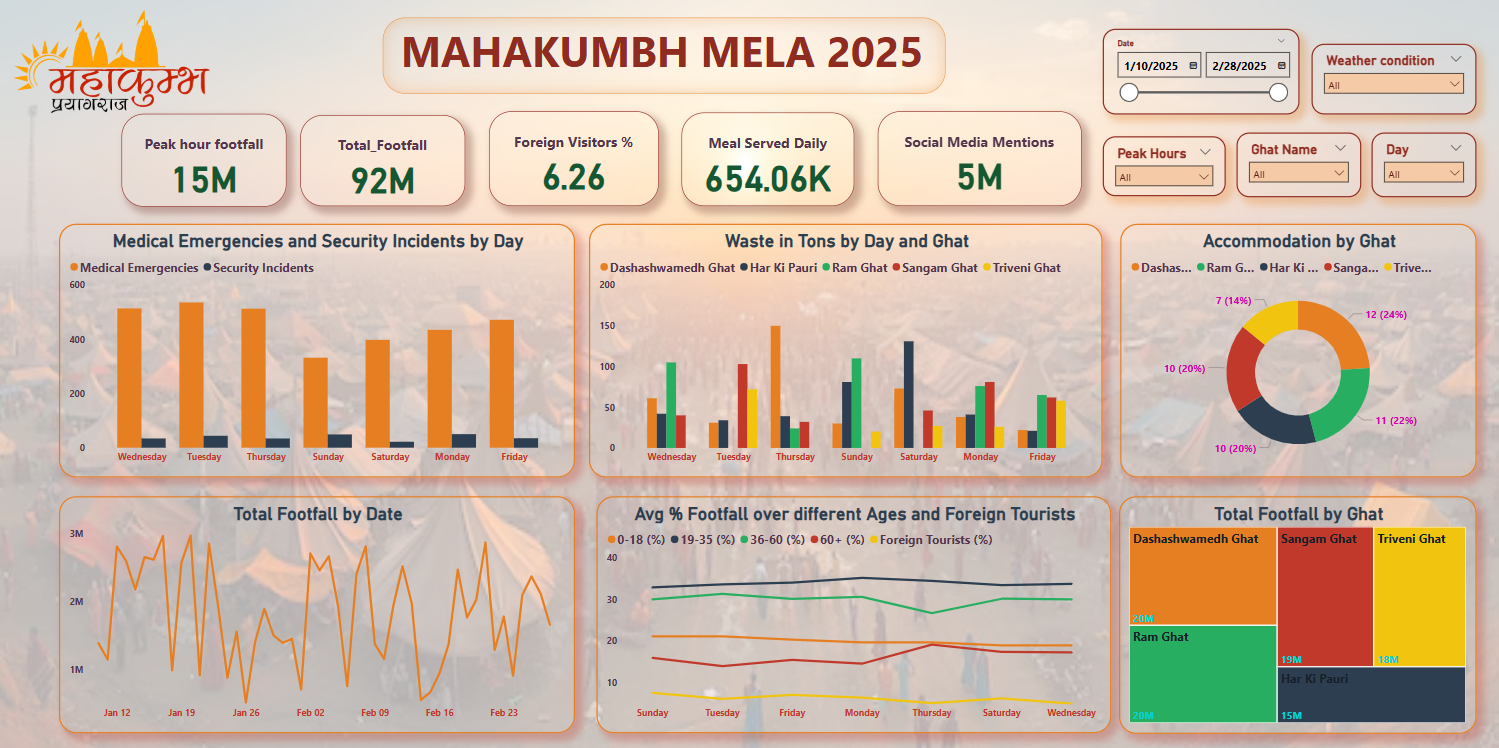

Layout of this report page (visuals, bound fields, positions):
{"tool":"powerbi","page":{"name":"Dashboard","canvas":[2000,1000],"ordinal":0},"visuals":[{"type":"group","id":"g1","title":"Group 1","box":[512,24,750,101.9],"z":0,"group":"g2"},{"type":"textbox","box":[512,24,750,101.9],"z":0,"group":"g1"},{"type":"lineChart","title":"Total Footfall by Date","fields":{"Y":["'Measures'.Total_Footfall"],"Category":["Mahakumbh_Footfall_Analytics.Date"]},"box":[80,662,688,316],"z":0},{"type":"lineChart","title":"Avg % Footfall over different Ages and Foreign Tourists","fields":{"Y":["Avg(Mahakumbh_Footfall_Analytics.0-18 (%))","Avg(Mahakumbh_Footfall_Analytics.19-35 (%))","Avg(Mahakumbh_Footfall_Analytics.36-60 (%))","Avg(Mahakumbh_Footfall_Analytics.60+ (%))","Avg(Mahakumbh_Footfall_Analytics.Foreign Tourists (%))"],"Category":["Mahakumbh_Footfall_Analytics.Day"]},"box":[796,662,686,316],"z":1000},{"type":"treemap","title":"Total Footfall by Ghat","fields":{"Group":["Mahakumbh_Footfall_Analytics.Ghat Name"],"Values":["'Measures'.Total_Footfall"]},"box":[1493.3,661.7,476.7,316.7],"z":2000},{"type":"donutChart","title":"Accommodation by Ghat","fields":{"Y":["CountNonNull(Mahakumbh_Footfall_Analytics.Accommodation (%))"],"Category":["Mahakumbh_Footfall_Analytics.Ghat Name"]},"box":[1495,298.3,475,338.3],"z":3000},{"type":"clusteredColumnChart","title":"Waste in Tons by Day and Ghat","fields":{"Y":["Sum(Mahakumbh_Footfall_Analytics.Waste (Tons))"],"Series":["Mahakumbh_Footfall_Analytics.Ghat Name"],"Category":["Mahakumbh_Footfall_Analytics.Day"]},"box":[786.7,298.3,685,338.3],"z":4000},{"type":"clusteredColumnChart","title":"Medical Emergencies and Security Incidents by Day","fields":{"Category":["Mahakumbh_Footfall_Analytics.Day"],"Y":["Sum(Mahakumbh_Footfall_Analytics.Medical Emergencies)","Sum(Mahakumbh_Footfall_Analytics.Security Incidents)"]},"box":[80,298,688,338],"z":5000},{"type":"group","id":"g2","title":"Group 2","box":[512,24,750,102],"z":6000},{"type":"slicer","fields":{"Values":["Mahakumbh_Footfall_Analytics.Date"]},"box":[1472,38,262,114],"z":9000},{"type":"slicer","fields":{"Values":["Mahakumbh_Footfall_Analytics.Ghat Name"]},"box":[1650,176,166,86],"z":10000},{"type":"slicer","fields":{"Values":["Mahakumbh_Footfall_Analytics.Day"]},"box":[1830,176,140,86],"z":11000},{"type":"slicer","fields":{"Values":["Mahakumbh_Footfall_Analytics.Peak Hours"]},"box":[1472,182,164,80],"z":12000},{"type":"slicer","fields":{"Values":["Mahakumbh_Footfall_Analytics.Weather condition"]},"box":[1750,58,220,94],"z":13000},{"type":"cardVisual","fields":{"Data":["'Measures'.Meal Served Daily"]},"box":[910,150,230,125],"z":14000},{"type":"cardVisual","fields":{"Data":["'Measures'.Total_Footfall"]},"box":[401.7,153.3,220,121.7],"z":15000},{"type":"cardVisual","fields":{"Data":["'Measures'.Foreign Visitors %"]},"box":[653.3,148.3,226.7,126.7],"z":16000},{"type":"cardVisual","fields":{"Data":["'Measures'.Social Media Mentions"]},"box":[1171.7,148.3,271.7,126.7],"z":18000},{"type":"cardVisual","fields":{"Data":["'Measures'.Peak hour footfall"]},"box":[164,152,220,124],"z":19000},{"type":"image","box":[0,2,300,180],"z":20000}]}

Visuals, with their boxes in screenshot pixels (x1, y1, x2, y2), scaled from the page's 2000x1000 canvas onto the 1499x748 screenshot:
"Group 1" group: locate(384, 18, 946, 94)
textbox: locate(384, 18, 946, 94)
"Total Footfall by Date" lineChart: locate(60, 495, 576, 732)
"Avg % Footfall over different Ages and Foreign Tourists" lineChart: locate(597, 495, 1111, 732)
"Total Footfall by Ghat" treemap: locate(1119, 495, 1477, 732)
"Accommodation by Ghat" donutChart: locate(1121, 223, 1477, 476)
"Waste in Tons by Day and Ghat" clusteredColumnChart: locate(590, 223, 1103, 476)
"Medical Emergencies and Security Incidents by Day" clusteredColumnChart: locate(60, 223, 576, 476)
"Group 2" group: locate(384, 18, 946, 94)
slicer - Mahakumbh_Footfall_Analytics.Date: locate(1103, 28, 1300, 114)
slicer - Mahakumbh_Footfall_Analytics.Ghat Name: locate(1237, 132, 1361, 196)
slicer - Mahakumbh_Footfall_Analytics.Day: locate(1372, 132, 1477, 196)
slicer - Mahakumbh_Footfall_Analytics.Peak Hours: locate(1103, 136, 1226, 196)
slicer - Mahakumbh_Footfall_Analytics.Weather condition: locate(1312, 43, 1477, 114)
cardVisual - 'Measures'.Meal Served Daily: locate(682, 112, 854, 206)
cardVisual - 'Measures'.Total_Footfall: locate(301, 115, 466, 206)
cardVisual - 'Measures'.Foreign Visitors %: locate(490, 111, 660, 206)
cardVisual - 'Measures'.Social Media Mentions: locate(878, 111, 1082, 206)
cardVisual - 'Measures'.Peak hour footfall: locate(123, 114, 288, 206)
image: locate(0, 1, 225, 136)
